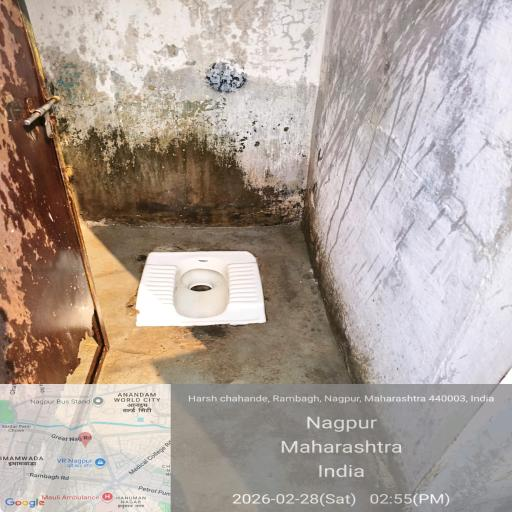clean_indian: (128, 232, 271, 331)
dirty_floor: (0, 13, 512, 219)
partial_dirty_floor: (29, 321, 447, 491)
